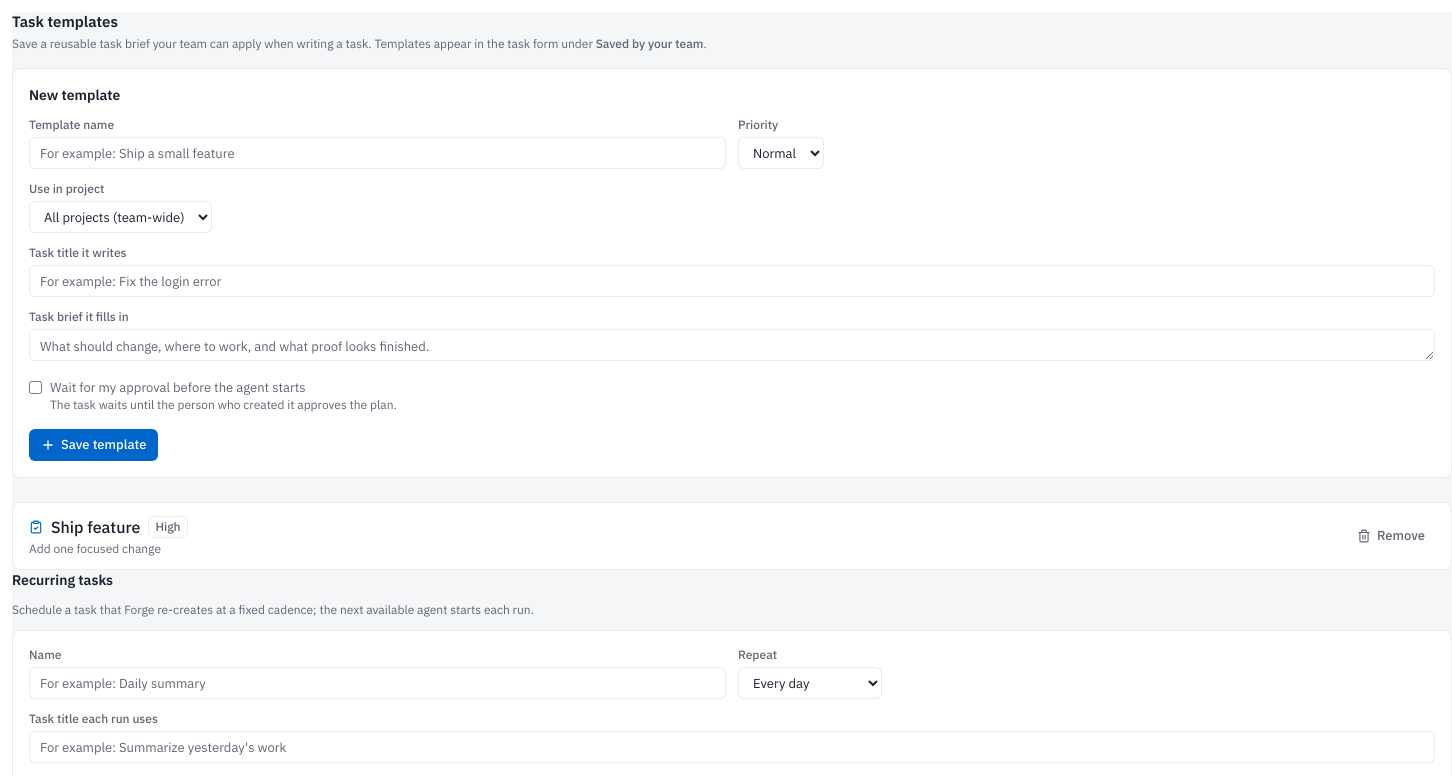
it: TaskTemplatesSection › confirms before removing and then deletes the template
The width and height of the screenshot is (1452, 776).
What coordinates should you click on to do the following:
click the button with test id "delete-task-template-tpl-2"
I would click on:
 (1391, 536)
Its box is [1347,520,1435,552].
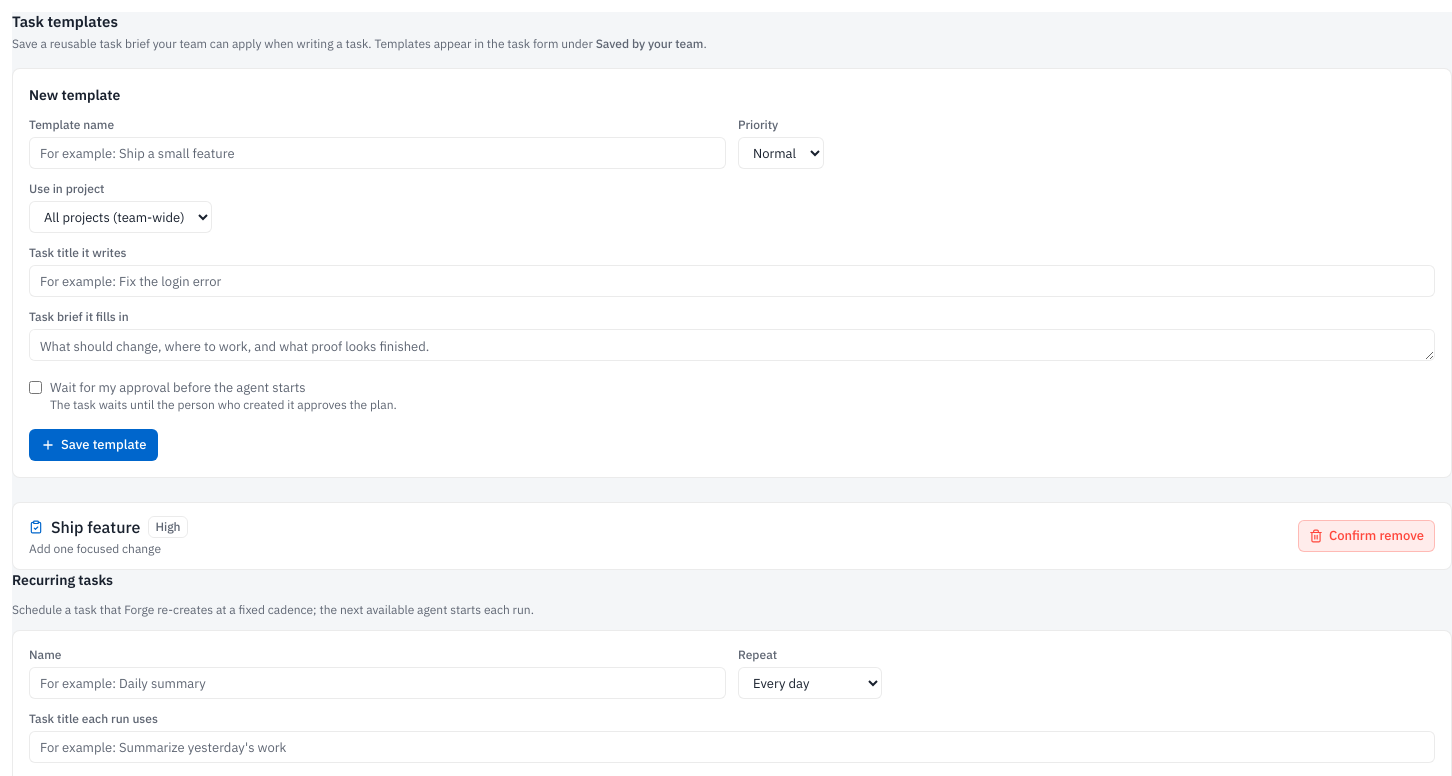
Expected: the button "Confirm remove" is shown
What coordinates should you click on to do the following:
click the button "Confirm remove"
I would click on:
 (1366, 536)
Its box is [1298,520,1435,552].
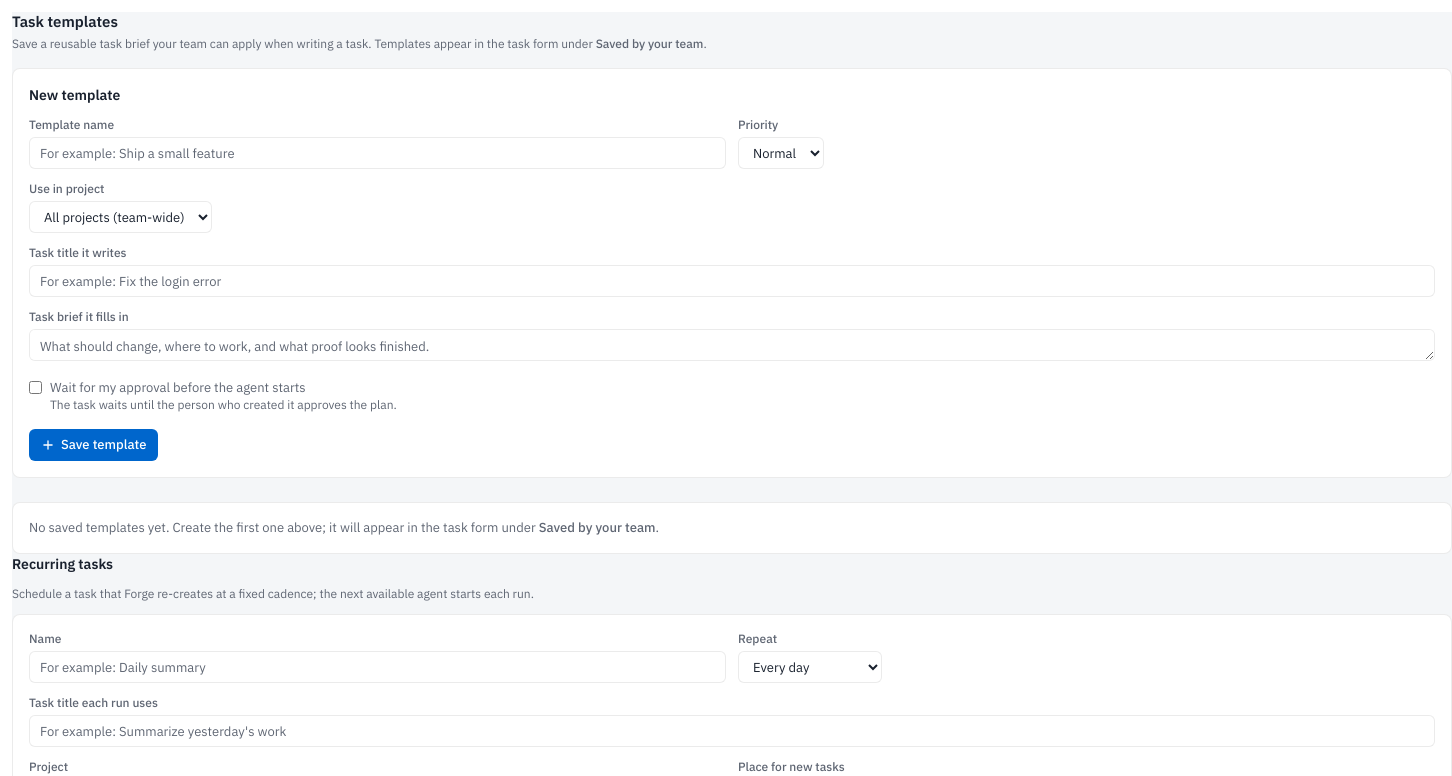
Expected: the text "No saved templates yet" is shown, [29,519,539,536]
